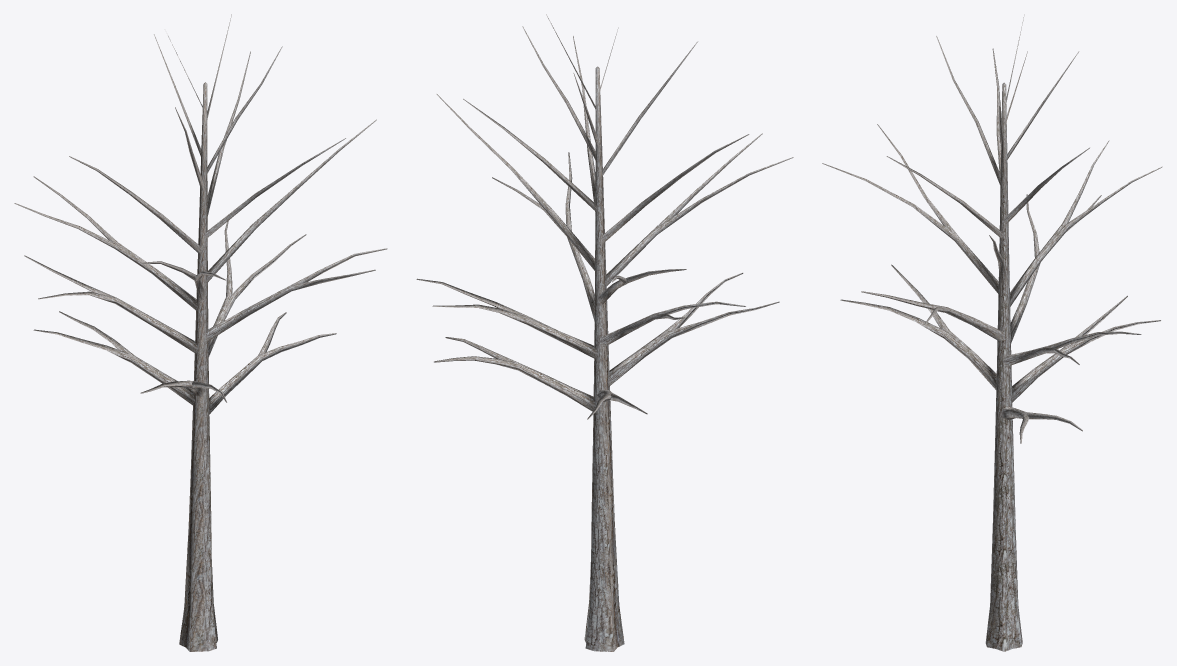
The model's file is trunk.glb.
3 renders of one model, left to right at view 1: azimuth 30°, elevation 25°; view 2: azimuth 150°, elevation 25°; view 3: azimuth 270°, elevation 25°, orthographic. The views are drawn at different scales.
Parts seen in each view (by area): view 1: tree; view 2: tree; view 3: tree.
Part boxes in pixels (x1,y1,x2,y2): tree: [14, 14, 387, 651]; tree: [416, 14, 793, 651]; tree: [822, 14, 1162, 651].
Size of what is drawn, in the model's own units: 27.97 by 51.24 by 25.67.
1 material, 1 textured.
